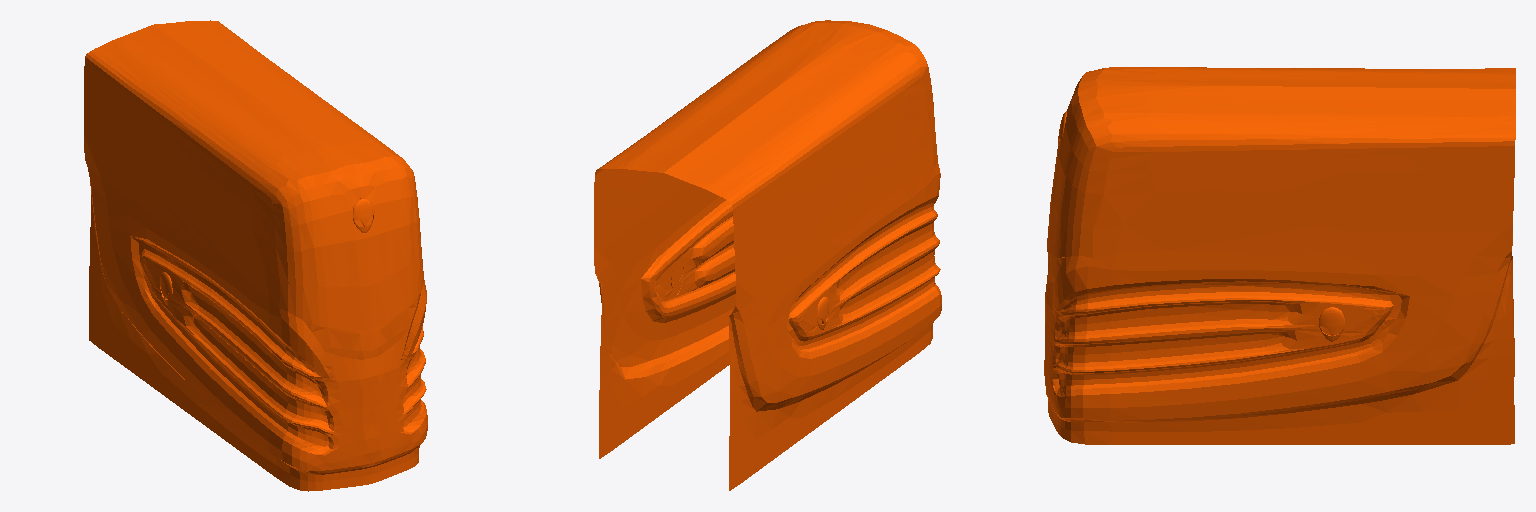
robot.urdf — Desktop_9326cfbdcad5bdea9b577a2e18dddbd:
<?xml version="1.0" ?>
<robot name="Desktop_9326cfbdcad5bdea9b577a2e18dddbd">
   <material name="obj_color">
      <color rgba="1.0 0.423529411765 0.0392156862745 1.0"/>
   </material>
   <link name="top">
      <inertial>
         <origin rpy="0.0008923907114369401 0.001408769763904859 0.001942429973395619" xyz="-2.173582362759375e-05 0.01896050146296025 -0.004163430900146346"/>
         <mass value="0.7731604798193192"/>
         <inertia ixx="0.001942429973241196" ixy="1.01819292079369e-08" ixz="5.672733032730219e-09" iyy="0.0008934165262348767" iyz="-2.299254061826705e-05" izz="0.001407743949261344"/>
      </inertial>
      <visual>
         <origin rpy="0 0 0" xyz="0 0 0"/>
         <geometry>
            <mesh filename="top_watertight_tiny.stl" scale="1 1 1"/>
         </geometry>
         <material name="obj_color"/>
      </visual>
      <collision>
         <origin rpy="0 0 0" xyz="0 0 0"/>
         <geometry>
            <mesh filename="top_watertight_tiny.obj" scale="1 1 1"/>
         </geometry>
      </collision>
   </link>
   <link name="bottom">
      <inertial>
         <origin rpy="1.633333333199431e-08 1.633333333199431e-08 1.633333333362855e-08" xyz="0.3464080000000008 0.3464080000000008 0.3464080000000008"/>
         <mass value="0.0009800000000000017"/>
         <inertia ixx="1.633333333253906e-08" ixy="5.447480642029219e-19" ixz="5.447480642029219e-19" iyy="1.633333333253906e-08" iyz="5.447480642029219e-19" izz="1.633333333253906e-08"/>
      </inertial>
      <visual>
         <origin rpy="0 0 0" xyz="0 0 0"/>
         <geometry>
            <mesh filename="bottom_watertight_tiny.stl" scale="1 1 1"/>
         </geometry>
         <material name="obj_color"/>
      </visual>
   </link>
   <joint name="rotation" type="revolute">
      <origin xyz="0 0 0"/>
      <axis xyz="0 0 -1"/>
      <parent link="bottom"/>
      <child link="top"/>
      <dynamics damping="1.0" friction="1.0"/>
      <limit effort="0.1" velocity="0.1" lower="0" upper="0.001"/>
   </joint>
</robot>

--- Render facts (derived) ---
3 views of the same robot in one strip: view 1: azimuth 30°, elevation 25°; view 2: azimuth 150°, elevation 25°; view 3: azimuth 270°, elevation 25° (orthographic).
Robot: Desktop_9326cfbdcad5bdea9b577a2e18dddbd — 2 links, 1 joints (1 revolute); root link bottom; default pose: every joint at zero.
Visible links, largest first — view 1: top; view 2: top; view 3: top.
Boxes of the visible links, x1,y1,x2,y2 form: top: (84,20,427,491); top: (594,20,941,490); top: (1044,67,1515,444).
Bounding box of the posed robot: 0.056 × 0.1431 × 0.1091 m (x, y, z).
Meshes: 2 distinct files referenced, 1 mesh visuals loaded (1 binary STL); not drawn: 1 (reference not matched to a file when rendering).
